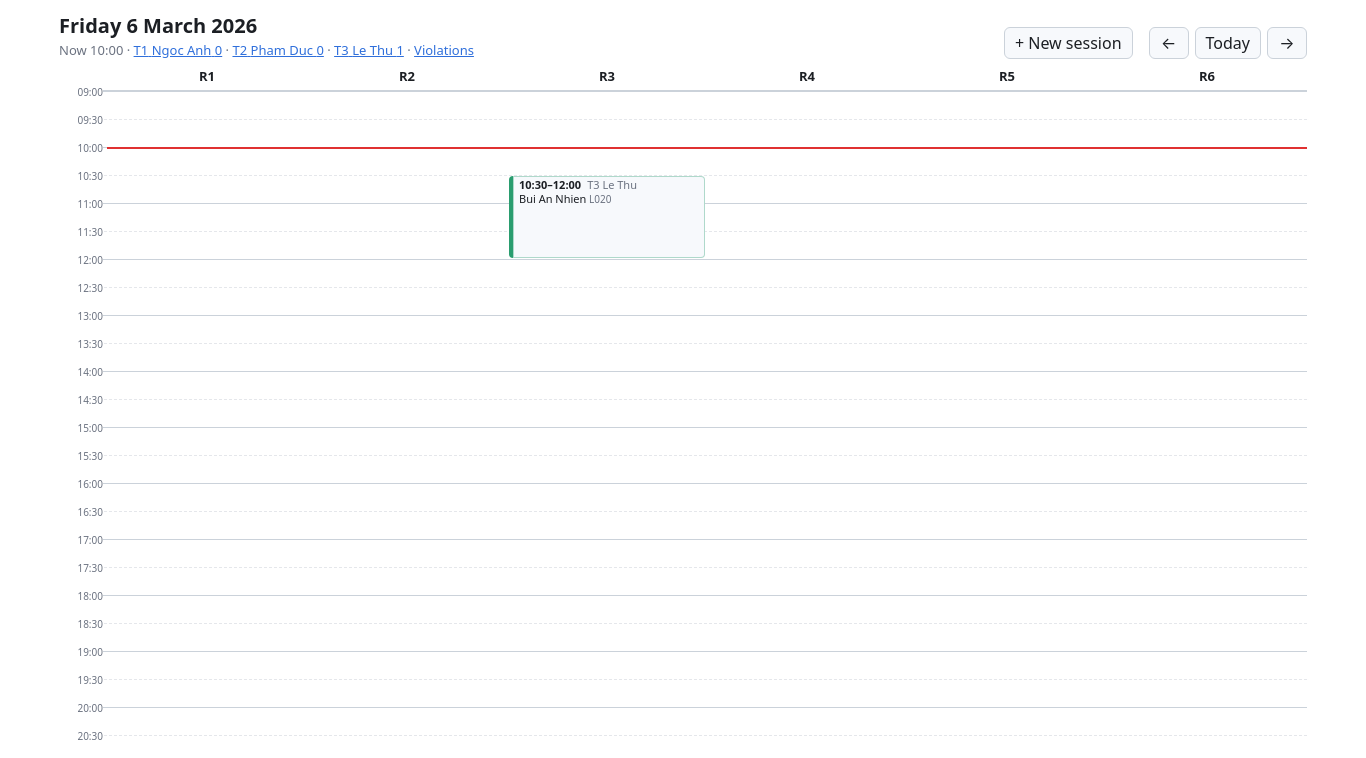
DayPage › opens a session from its card
Click the button "10:30–12:00" at [550, 185], box [519,178,581,192]
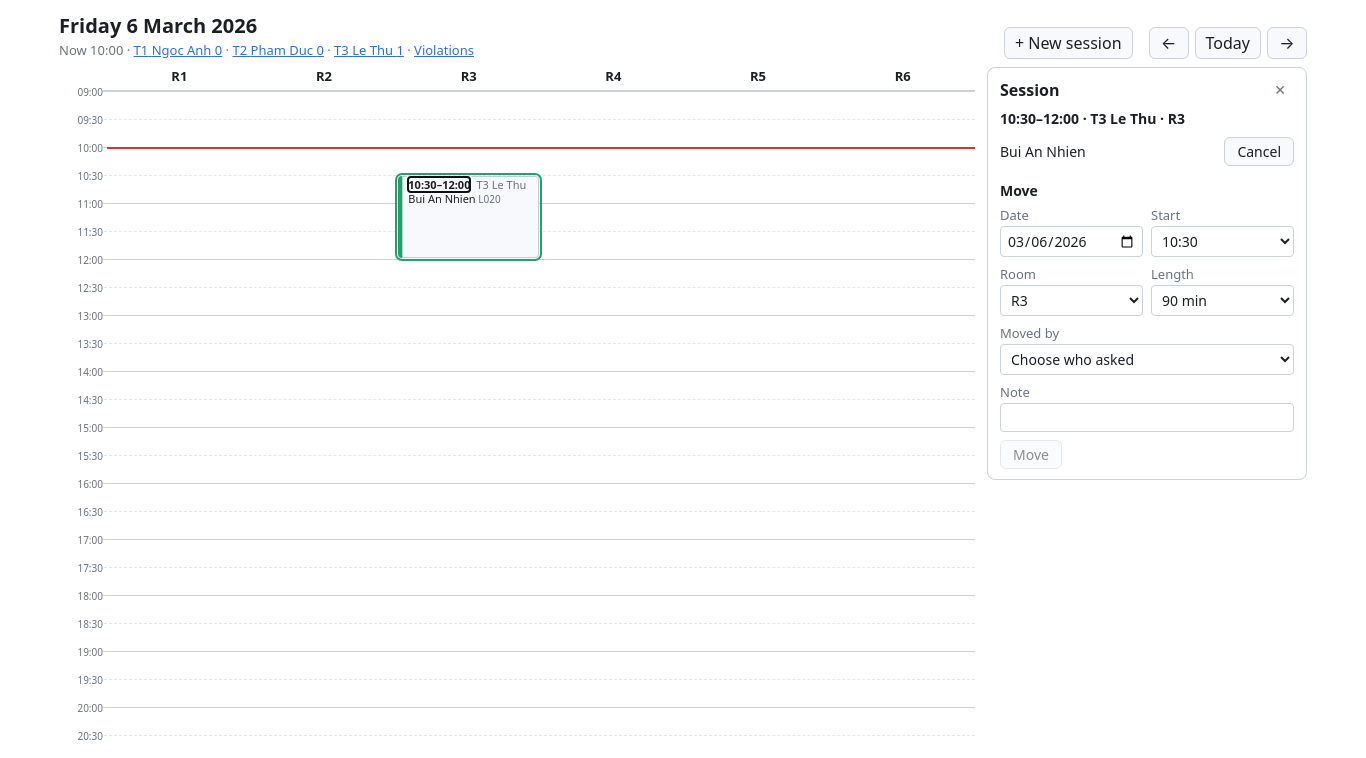
Now the button with aria-label "Cancel Bui An Nhien" is shown, box [1224,137,1294,166]
